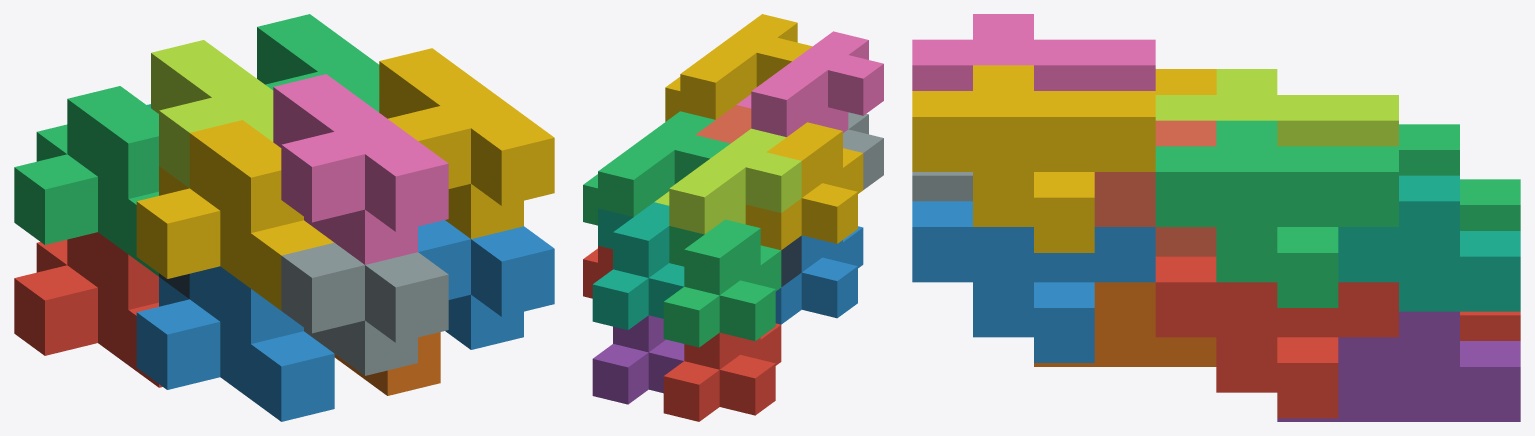
File: tiling.obj
3 renders of one model, left to right at view 1: azimuth 30°, elevation 25°; view 2: azimuth 150°, elevation 25°; view 3: azimuth 270°, elevation 25°, orthographic. The views are drawn at different scales.
Parts seen in each view (by area): view 1: copy_2_domain_4, copy_1_domain_4, copy_1_domain_2, copy_2_domain_8, copy_1_domain_3, copy_2_domain_2, copy_1_domain_1, copy_2_domain_6, copy_2_domain_3, copy_2_domain_7, copy_1_domain_6; view 2: copy_1_domain_3, copy_2_domain_4, copy_2_domain_3, copy_1_domain_4, copy_1_domain_7, copy_1_domain_1, copy_2_domain_8, copy_2_domain_7, copy_1_domain_2, copy_1_domain_5, copy_2_domain_2, copy_1_domain_8 (+2 smaller); view 3: copy_2_domain_7, copy_2_domain_8, copy_2_domain_5, copy_2_domain_6, copy_1_domain_5, copy_1_domain_7, copy_2_domain_4, copy_2_domain_3, copy_1_domain_6, copy_1_domain_8, copy_1_domain_3, copy_1_domain_1 (+2 smaller).
Part boxes in pixels (x1,y1,x2,y2): copy_2_domain_4: (273,74,448,264); copy_1_domain_4: (136,120,333,310); copy_1_domain_2: (136,266,334,421); copy_2_domain_8: (379,48,554,238); copy_1_domain_3: (14,86,158,276); copy_2_domain_2: (281,242,448,375); copy_1_domain_1: (14,232,162,387); copy_2_domain_6: (418,220,554,349); copy_2_domain_3: (151,40,273,187); copy_2_domain_7: (257,14,379,112); copy_1_domain_6: (334,332,440,395); copy_1_domain_3: (663,219,781,347); copy_2_domain_4: (736,31,883,137); copy_2_domain_3: (654,128,801,234); copy_1_domain_4: (745,122,863,250); copy_1_domain_7: (592,202,684,329); copy_1_domain_1: (663,323,781,421); copy_2_domain_8: (665,14,812,121); copy_2_domain_7: (583,111,730,225); copy_1_domain_2: (775,226,863,324); copy_1_domain_5: (592,315,684,404); copy_2_domain_2: (843,112,883,189); copy_1_domain_8: (695,105,751,143); copy_2_domain_7: (1155,120,1398,307); copy_2_domain_8: (912,65,1155,252); copy_2_domain_5: (1155,256,1398,418); copy_2_domain_6: (912,201,1155,362); copy_1_domain_5: (1277,311,1520,421); copy_1_domain_7: (1338,175,1520,311); copy_2_domain_4: (912,14,1155,90); copy_2_domain_3: (1155,69,1398,146); copy_1_domain_6: (1034,282,1216,366); copy_1_domain_8: (1094,120,1216,256); copy_1_domain_3: (1399,124,1520,230); copy_1_domain_1: (1460,311,1520,340).
Bounding box in the file's own units: 6 × 6 × 10.
